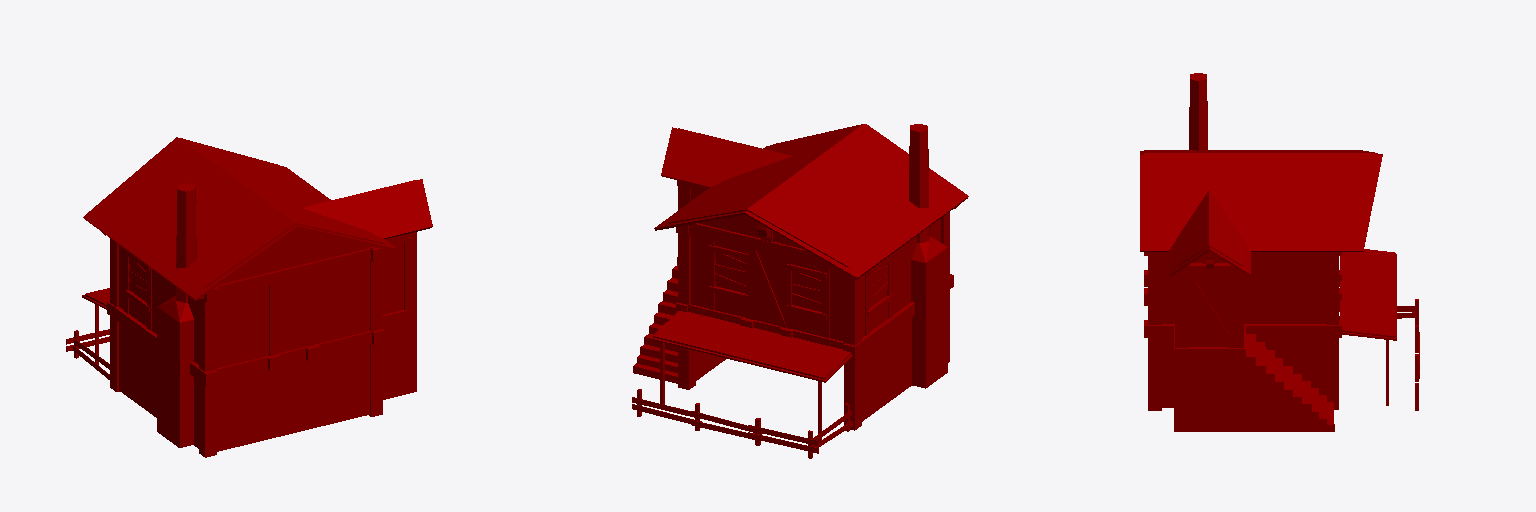
File: house0.obj
3 views of the same model, side by side, from view 1: azimuth 30°, elevation 25°; view 2: azimuth 150°, elevation 25°; view 3: azimuth 270°, elevation 25° (orthographic).
Parts seen in each view (by area): view 1: Object012; view 2: Object012; view 3: Object012.
Boxes of the visible parts, <box> form: Object012: <box>66,137,432,457</box>; Object012: <box>632,124,968,458</box>; Object012: <box>1140,73,1419,431</box>.
Size of the model in its own units: 115 by 105 by 107.